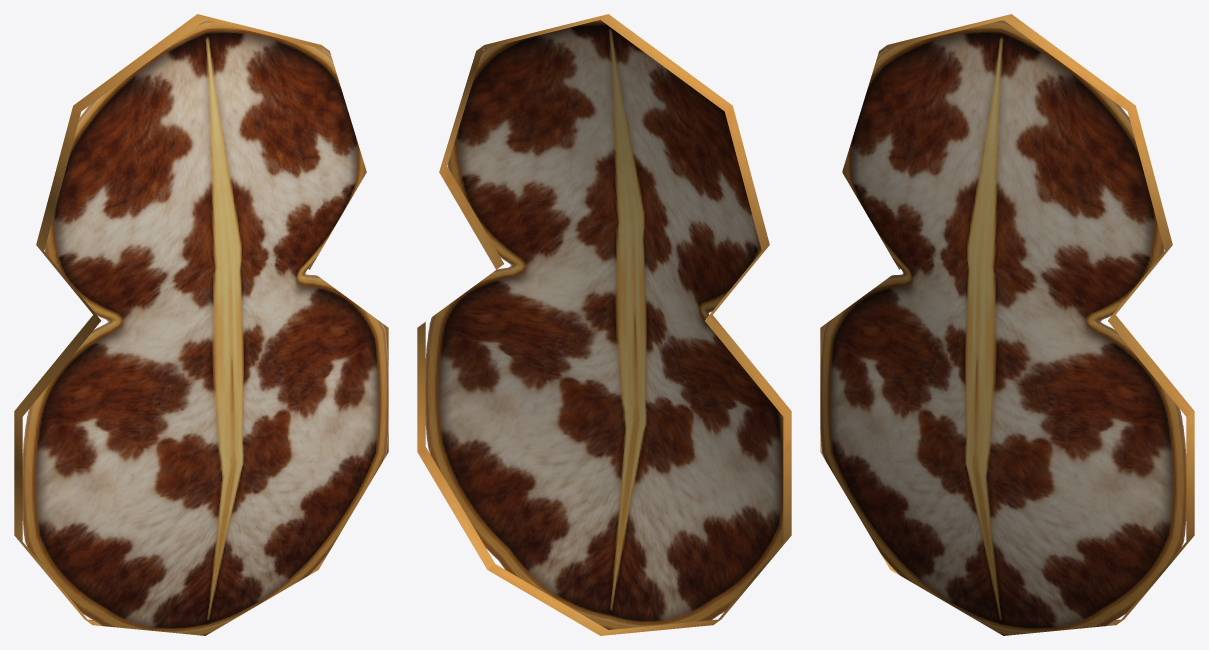
File: shield_eight_front.dae
The picture shows the model from 3 angles, left to right: view 1: azimuth 30°, elevation 25°; view 2: azimuth 150°, elevation 25°; view 3: azimuth 330°, elevation 25°; orthographic projection.
Parts seen in each view (by area): view 1: eight_shield; view 2: eight_shield; view 3: eight_shield.
Part boxes in pixels (bbox=[...]): eight_shield: bbox=[14, 14, 388, 635]; eight_shield: bbox=[417, 14, 791, 635]; eight_shield: bbox=[820, 14, 1194, 635].
Bounding box in the file's own units: 1.9 × 0.3294 × 3.06.
